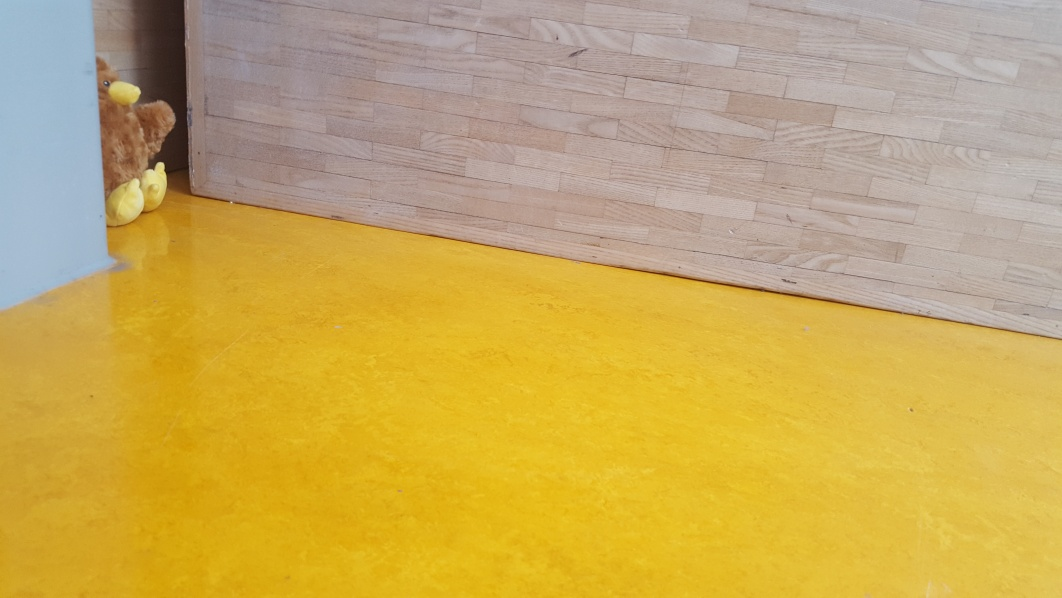chicken: (93, 53, 178, 222)
